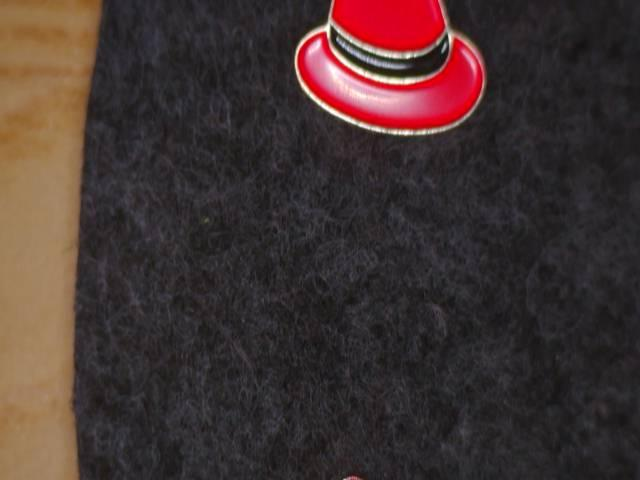Red-Hat: (252, 0, 507, 163)
